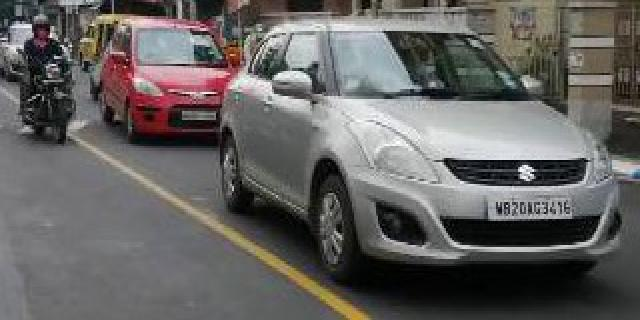Car: (201, 12, 622, 293), (91, 14, 240, 143)
Motorbike: (10, 14, 79, 150)
